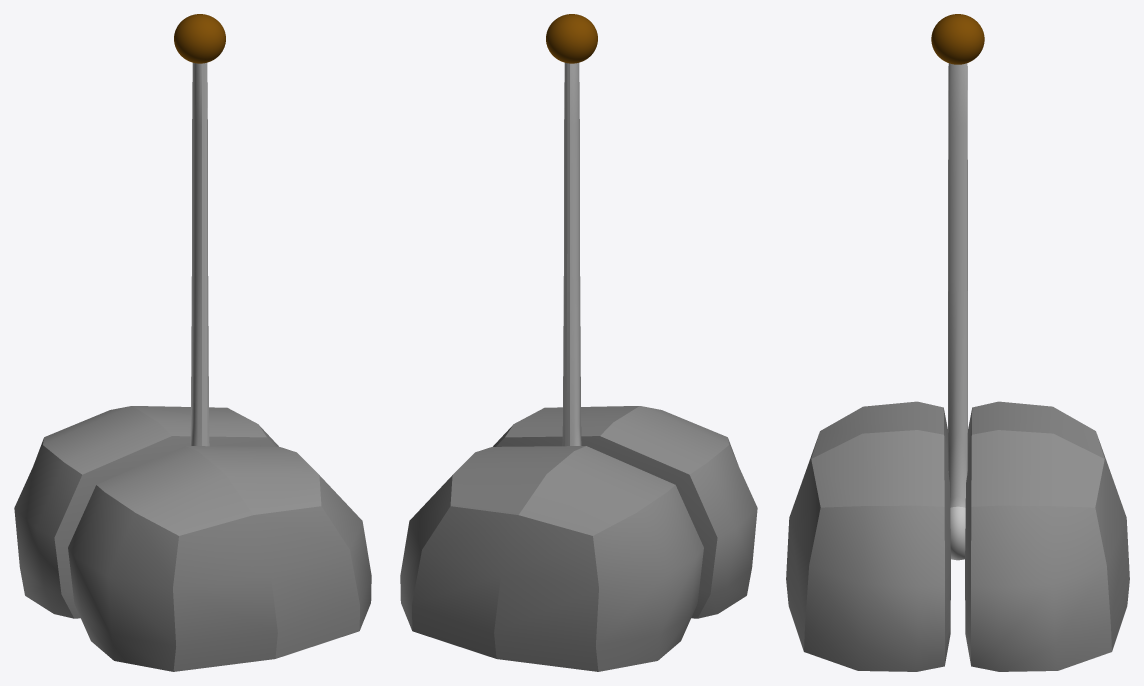
The model's file is Palanca 1.fbx.
The picture shows the model from 3 angles, left to right: view 1: azimuth 30°, elevation 25°; view 2: azimuth 150°, elevation 25°; view 3: azimuth 270°, elevation 25°; orthographic projection. The views are drawn at different scales.
Parts seen in each view (by area): view 1: Cube, Cylinder.001; view 2: Cube, Cylinder.001; view 3: Cube, Cylinder.001.
Boxes of the visible parts, left/top/right/bottom form: Cube: left=14, top=406, right=371, bottom=671; Cylinder.001: left=174, top=14, right=225, bottom=446; Cube: left=400, top=406, right=757, bottom=671; Cylinder.001: left=546, top=14, right=597, bottom=446; Cube: left=786, top=401, right=1129, bottom=671; Cylinder.001: left=931, top=14, right=984, bottom=560.
Size of the model in its own units: 334 by 687 by 357.
